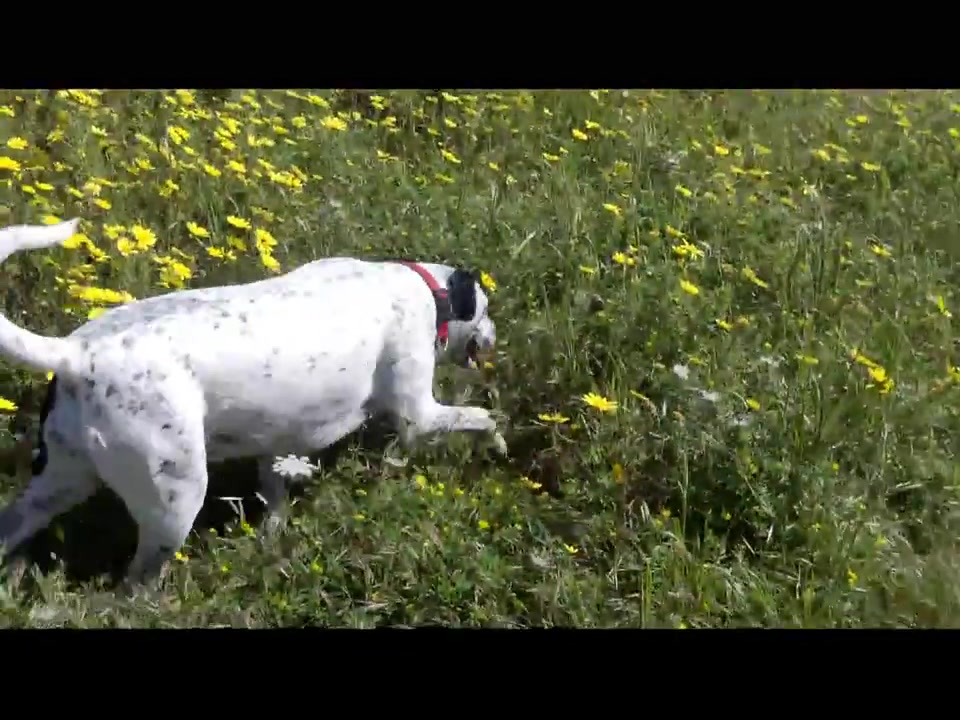dog: (1, 217, 503, 592)
